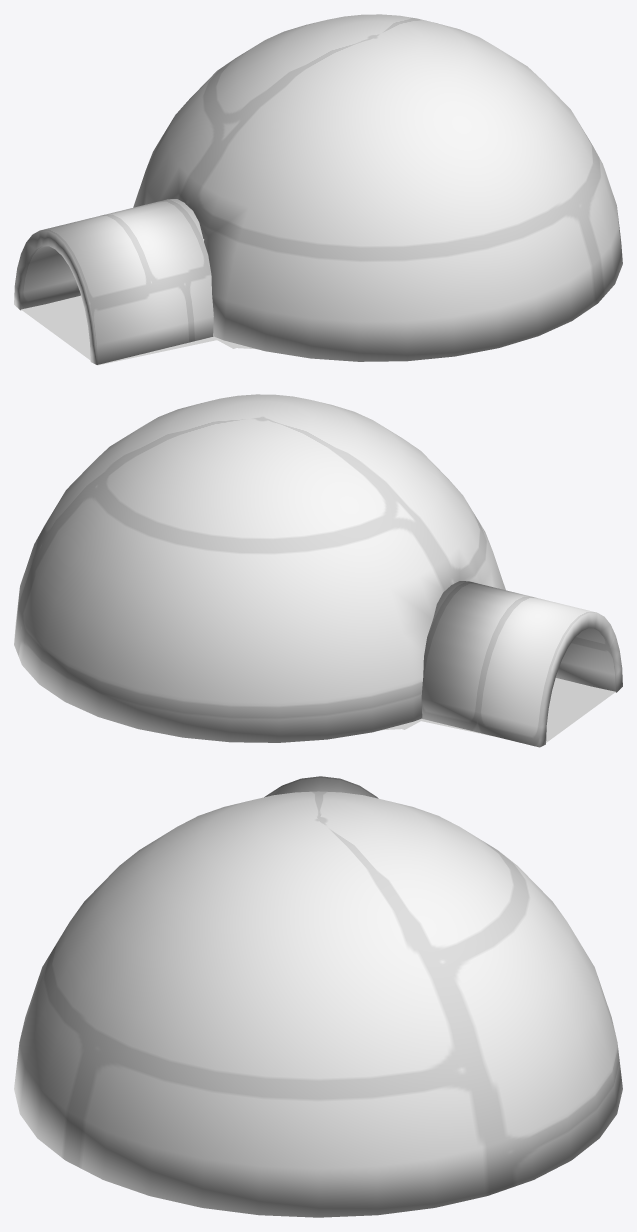
The model's file is igloo.dae.
3 renders of one model, top to bottom at view 1: azimuth 30°, elevation 25°; view 2: azimuth 150°, elevation 25°; view 3: azimuth 270°, elevation 25°, orthographic. The views are drawn at different scales.
Visible parts, largest first — view 1: Sphere, Cylinder, Plane.001; view 2: Sphere, Cylinder, Plane.001; view 3: Sphere, Cylinder.
Boxes of the visible parts, x1,y1,x2,y2 form: Sphere: (133, 14, 622, 361); Cylinder: (14, 199, 213, 364); Plane.001: (21, 295, 220, 365); Sphere: (14, 394, 505, 742); Cylinder: (421, 581, 622, 747); Plane.001: (418, 678, 615, 742); Sphere: (14, 791, 622, 1217); Cylinder: (264, 776, 378, 798).
Size of the model in its own units: 3.35 by 2.7 by 1.35.
Materials: 1 (1 with a texture image).
